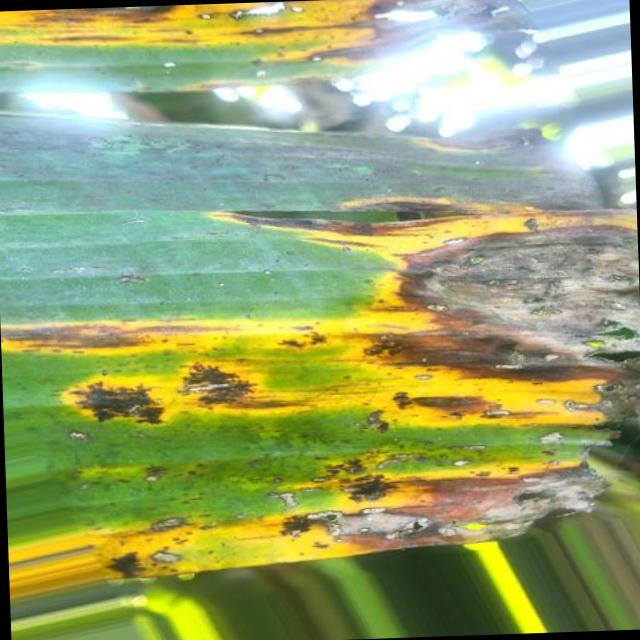Banana_Black_Sigatoka: (329, 161, 640, 584), (35, 304, 336, 616), (30, 0, 447, 100)
